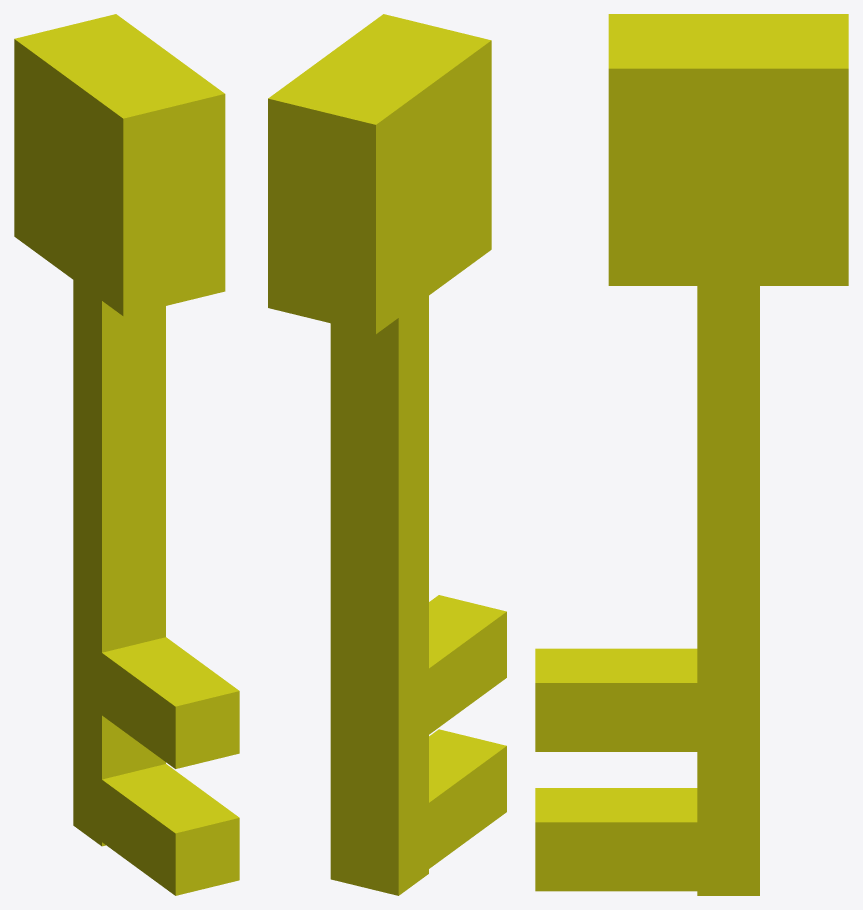
Rendered from key.obj.
The picture shows the model from 3 angles, left to right: view 1: azimuth 30°, elevation 25°; view 2: azimuth 150°, elevation 25°; view 3: azimuth 270°, elevation 25°; orthographic projection. The views are drawn at different scales.
Parts seen in each view (by area): view 1: pCube5; view 2: pCube5; view 3: pCube5.
Part boxes in pixels (x1,y1,x2,y2): pCube5: (14,14,239,895); pCube5: (268,14,506,895); pCube5: (535,14,848,895).
Bounding box in the file's own units: 0.3451 × 2.47 × 0.8355.
